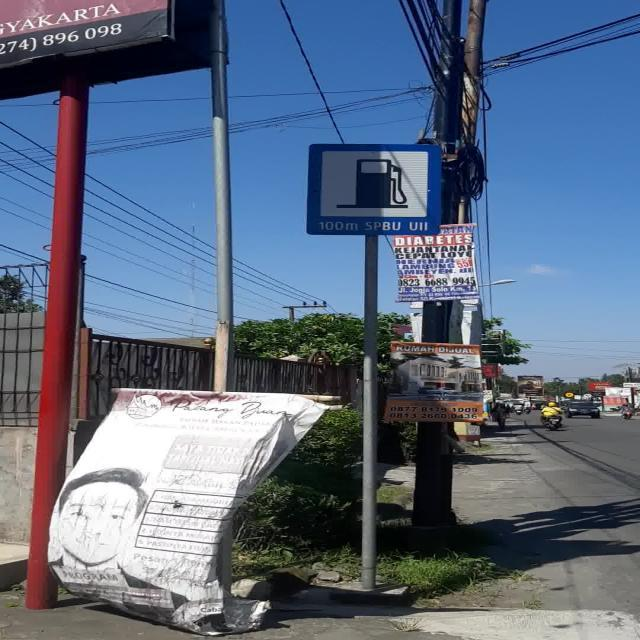Pom Bensin: (306, 143, 441, 236)
